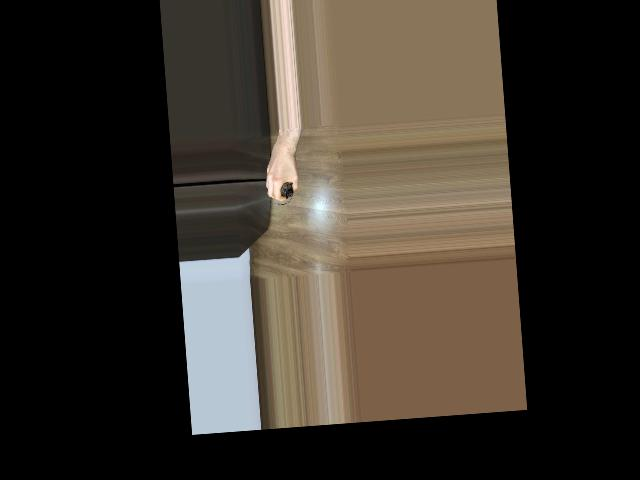beet: (276, 182, 294, 206)
